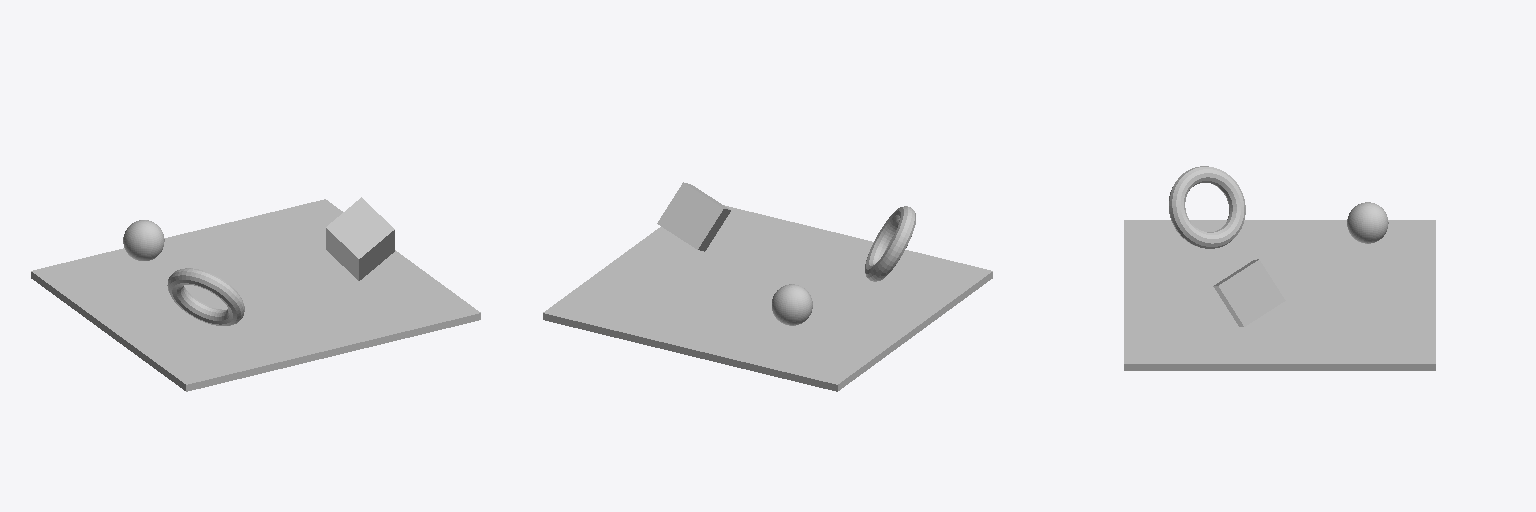
Rendered from platform_test4.obj.
The picture shows the model from 3 angles: view 1: azimuth 30°, elevation 25°; view 2: azimuth 150°, elevation 25°; view 3: azimuth 270°, elevation 25°; orthographic projection.
Parts seen in each view (by area): view 1: Cube.001; view 2: Cube.001; view 3: Cube.001.
Part boxes in pixels (x1,y1,x2,y2): Cube.001: (31, 197, 480, 391); Cube.001: (543, 182, 992, 391); Cube.001: (1124, 166, 1435, 370).
Size of the model in its own units: 13.86 by 3.86 by 12.68.